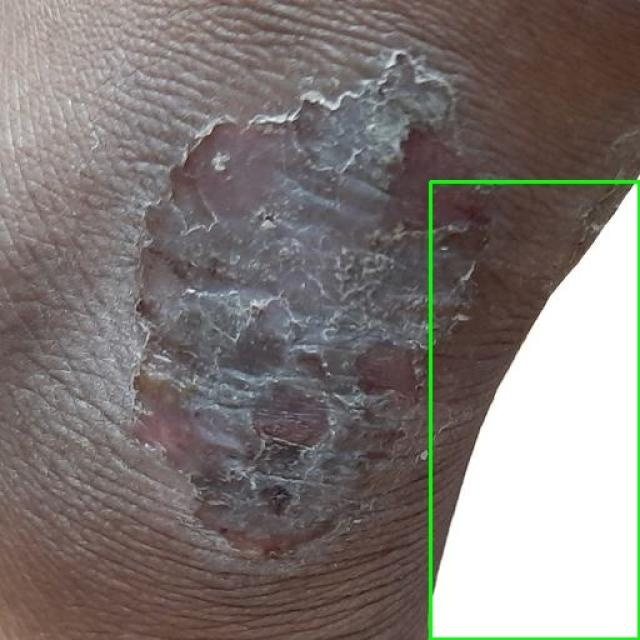Contact Dermatitis: (430, 181, 639, 639)
